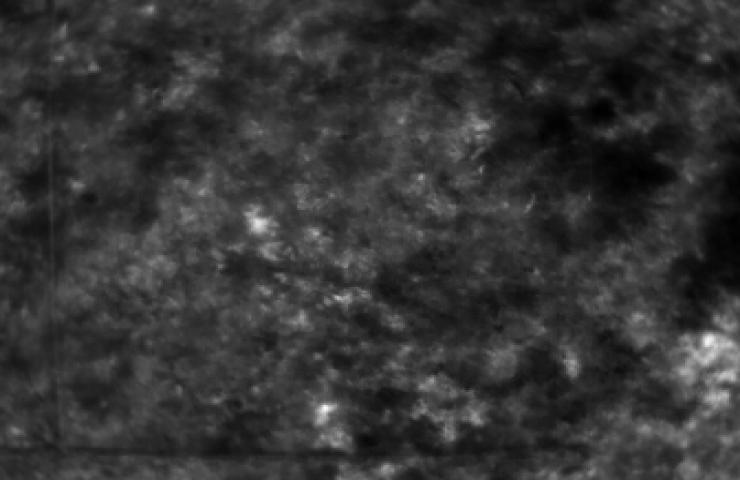landmines: (244, 207, 278, 239)
